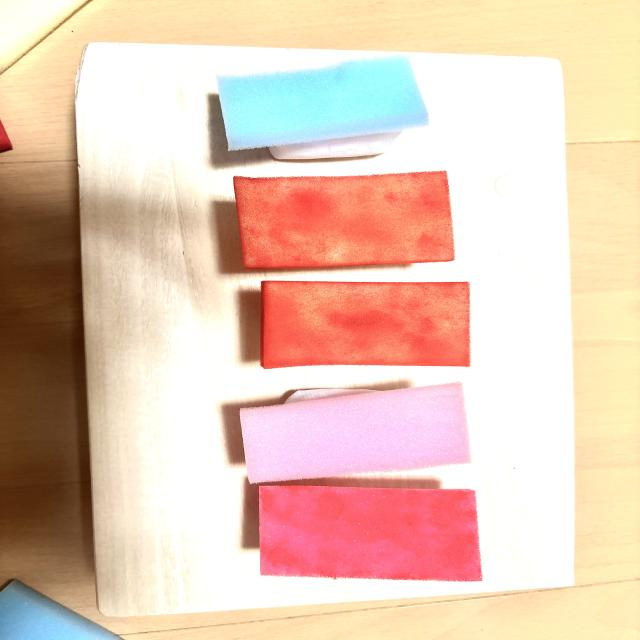NG: (218, 56, 428, 159)
maguro: (259, 486, 482, 581)
salmon: (234, 172, 455, 269), (261, 281, 470, 368)
tai: (240, 383, 470, 483)
